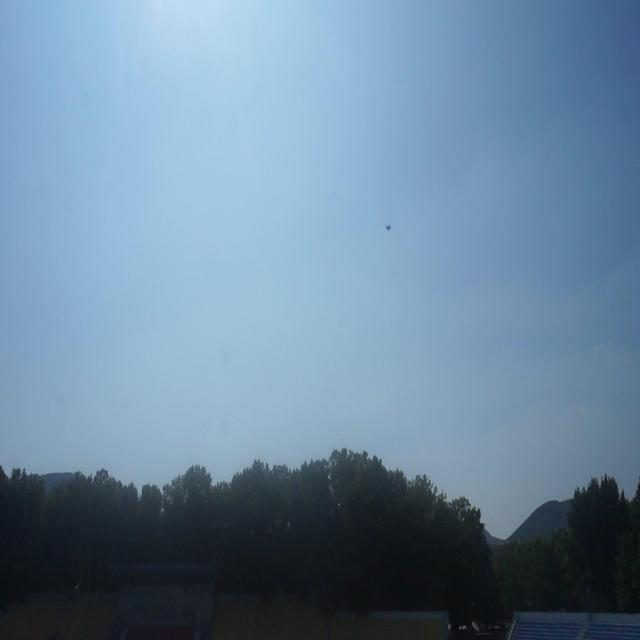drone: (383, 221, 393, 233)
